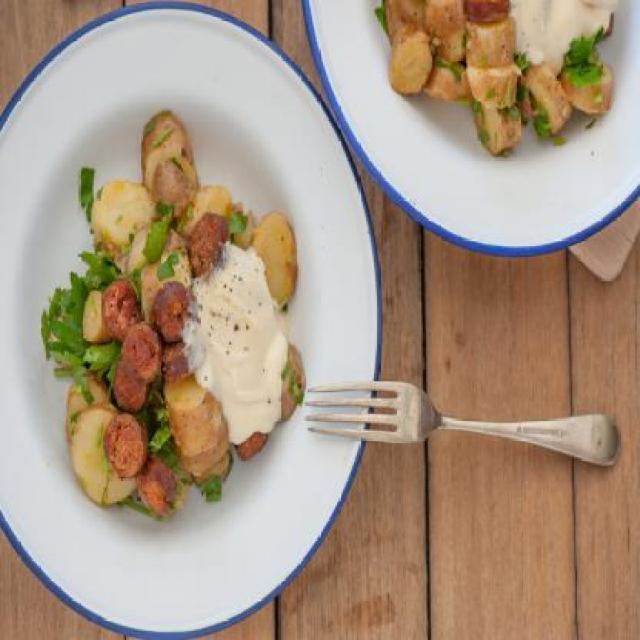Salad: (36, 104, 312, 524), (368, 0, 626, 166)
